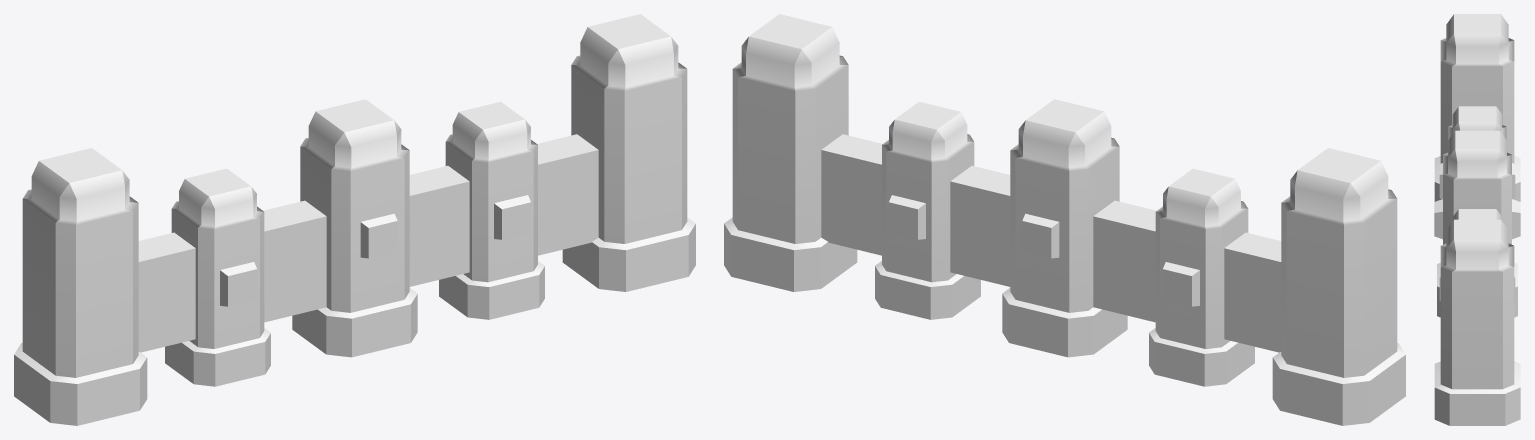
Rendered from Wall_Lv9_1.fbx.
3 renders of one model, left to right at view 1: azimuth 30°, elevation 25°; view 2: azimuth 150°, elevation 25°; view 3: azimuth 270°, elevation 25°, orthographic. The views are drawn at different scales.
Visible parts, largest first — view 1: Wall; view 2: Wall; view 3: Wall.
Part boxes in pixels (x1,y1,x2,y2): Wall: [14, 14, 695, 425]; Wall: [724, 14, 1405, 425]; Wall: [1434, 14, 1520, 425].
Size of the model in its own units: 1.57 by 0.5392 by 0.2366.
